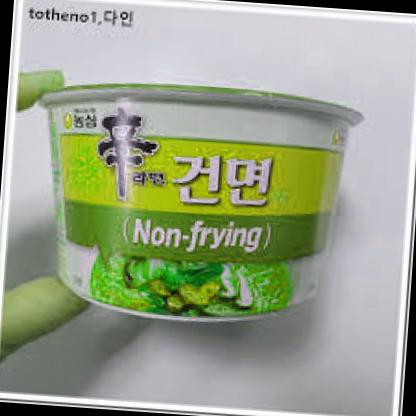Ramen: (26, 70, 362, 328)
